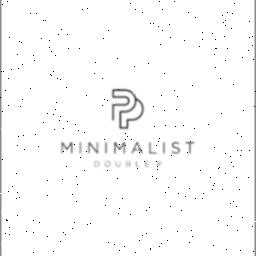a: (130, 141, 144, 155)
i: (78, 140, 84, 156)
l: (147, 140, 161, 156)
m: (56, 138, 74, 156)
n: (88, 141, 100, 155)
s: (170, 139, 182, 155)
t: (184, 140, 198, 156)
